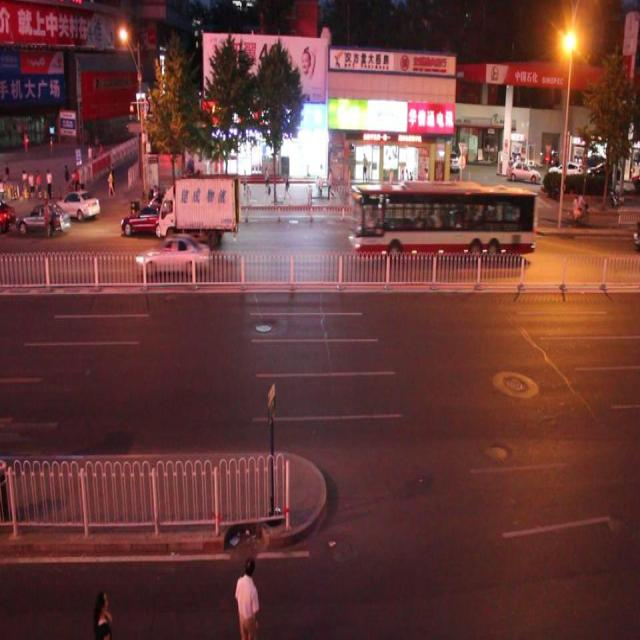bus: (153, 184, 240, 259)
car: (135, 232, 210, 278), (119, 200, 181, 238), (14, 201, 71, 239), (56, 183, 101, 221)
van: (348, 182, 536, 260)
